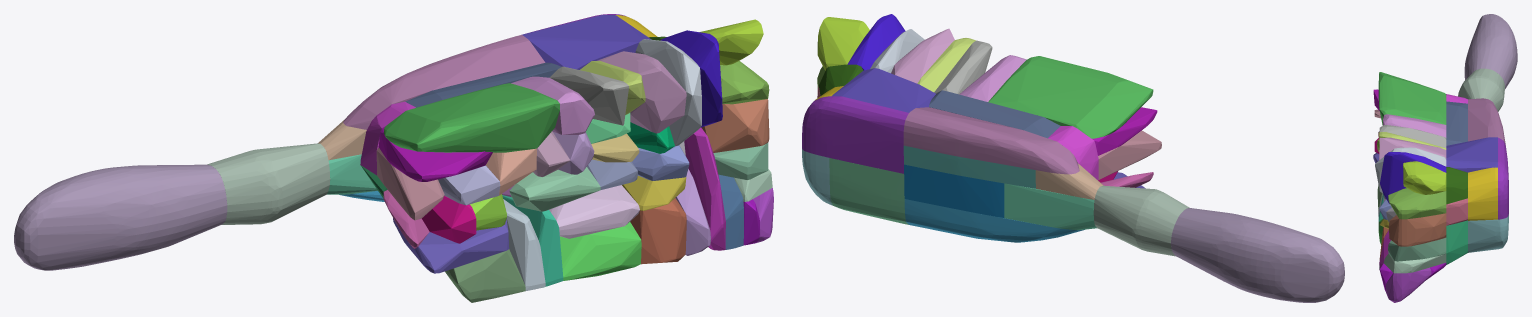
File: red_brush-collision.glb
The picture shows the model from 3 angles, left to right: view 1: azimuth 30°, elevation 25°; view 2: azimuth 150°, elevation 25°; view 3: azimuth 270°, elevation 25°; orthographic projection. The views are drawn at different scales.
Parts seen in each view (by area): view 1: red_brush_collision1_0, red_brush_collision8_0, red_brush_collision0_0, red_brush_collision28_0, red_brush_collision20_0, red_brush_collision50_0, red_brush_collision7_0, red_brush_collision49_0, red_brush_collision18_0, red_brush_collision6_0, red_brush_collision15_0, red_brush_collision19_0 (+36 smaller); view 2: red_brush_collision1_0, red_brush_collision8_0, red_brush_collision28_0, red_brush_collision27_0, red_brush_collision0_0, red_brush_collision10_0, red_brush_collision29_0, red_brush_collision42_0, red_brush_collision61_0, red_brush_collision20_0, red_brush_collision60_0, red_brush_collision21_0 (+14 smaller); view 3: red_brush_collision1_0, red_brush_collision8_0, red_brush_collision31_0, red_brush_collision59_0, red_brush_collision20_0, red_brush_collision30_0, red_brush_collision28_0, red_brush_collision0_0, red_brush_collision2_0, red_brush_collision5_0, red_brush_collision4_0, red_brush_collision43_0 (+16 smaller).
Part boxes in pixels (left/top/right/bottom): red_brush_collision1_0: left=14, top=164, right=227, bottom=270; red_brush_collision8_0: left=383, top=83, right=559, bottom=152; red_brush_collision0_0: left=207, top=143, right=330, bottom=224; red_brush_collision28_0: left=343, top=35, right=545, bottom=129; red_brush_collision20_0: left=522, top=15, right=651, bottom=69; red_brush_collision50_0: left=560, top=222, right=641, bottom=280; red_brush_collision7_0: left=597, top=51, right=686, bottom=133; red_brush_collision49_0: left=549, top=185, right=639, bottom=238; red_brush_collision18_0: left=393, top=218, right=509, bottom=273; red_brush_collision6_0: left=635, top=39, right=701, bottom=146; red_brush_collision15_0: left=630, top=198, right=686, bottom=264; red_brush_collision19_0: left=445, top=249, right=525, bottom=302; red_brush_collision1_0: left=1170, top=208, right=1344, bottom=302; red_brush_collision8_0: left=988, top=56, right=1153, bottom=138; red_brush_collision28_0: left=903, top=107, right=1079, bottom=174; red_brush_collision27_0: left=802, top=96, right=908, bottom=173; red_brush_collision0_0: left=1093, top=185, right=1189, bottom=256; red_brush_collision10_0: left=829, top=158, right=908, bottom=224; red_brush_collision29_0: left=904, top=199, right=1084, bottom=242; red_brush_collision42_0: left=904, top=164, right=1004, bottom=217; red_brush_collision61_0: left=1004, top=183, right=1096, bottom=230; red_brush_collision20_0: left=832, top=68, right=935, bottom=112; red_brush_collision60_0: left=903, top=145, right=1035, bottom=188; red_brush_collision21_0: left=929, top=90, right=1060, bottom=138; red_brush_collision1_0: left=1464, top=14, right=1517, bottom=88; red_brush_collision8_0: left=1378, top=72, right=1446, bottom=125; red_brush_collision31_0: left=1388, top=213, right=1446, bottom=246; red_brush_collision59_0: left=1468, top=167, right=1497, bottom=220; red_brush_collision20_0: left=1446, top=137, right=1497, bottom=172; red_brush_collision30_0: left=1388, top=188, right=1446, bottom=219; red_brush_collision28_0: left=1468, top=98, right=1505, bottom=146; red_brush_collision0_0: left=1458, top=68, right=1505, bottom=111; red_brush_collision2_0: left=1468, top=214, right=1508, bottom=252; red_brush_collision5_0: left=1380, top=152, right=1446, bottom=203; red_brush_collision4_0: left=1403, top=161, right=1446, bottom=194; red_brush_collision43_0: left=1388, top=237, right=1446, bottom=261.
Bounding box in the file's own units: 0.322 × 0.0963 × 0.0936.
